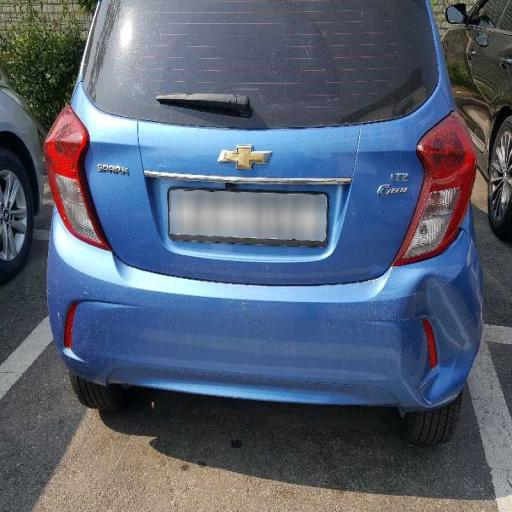dent: (393, 240, 484, 426)
